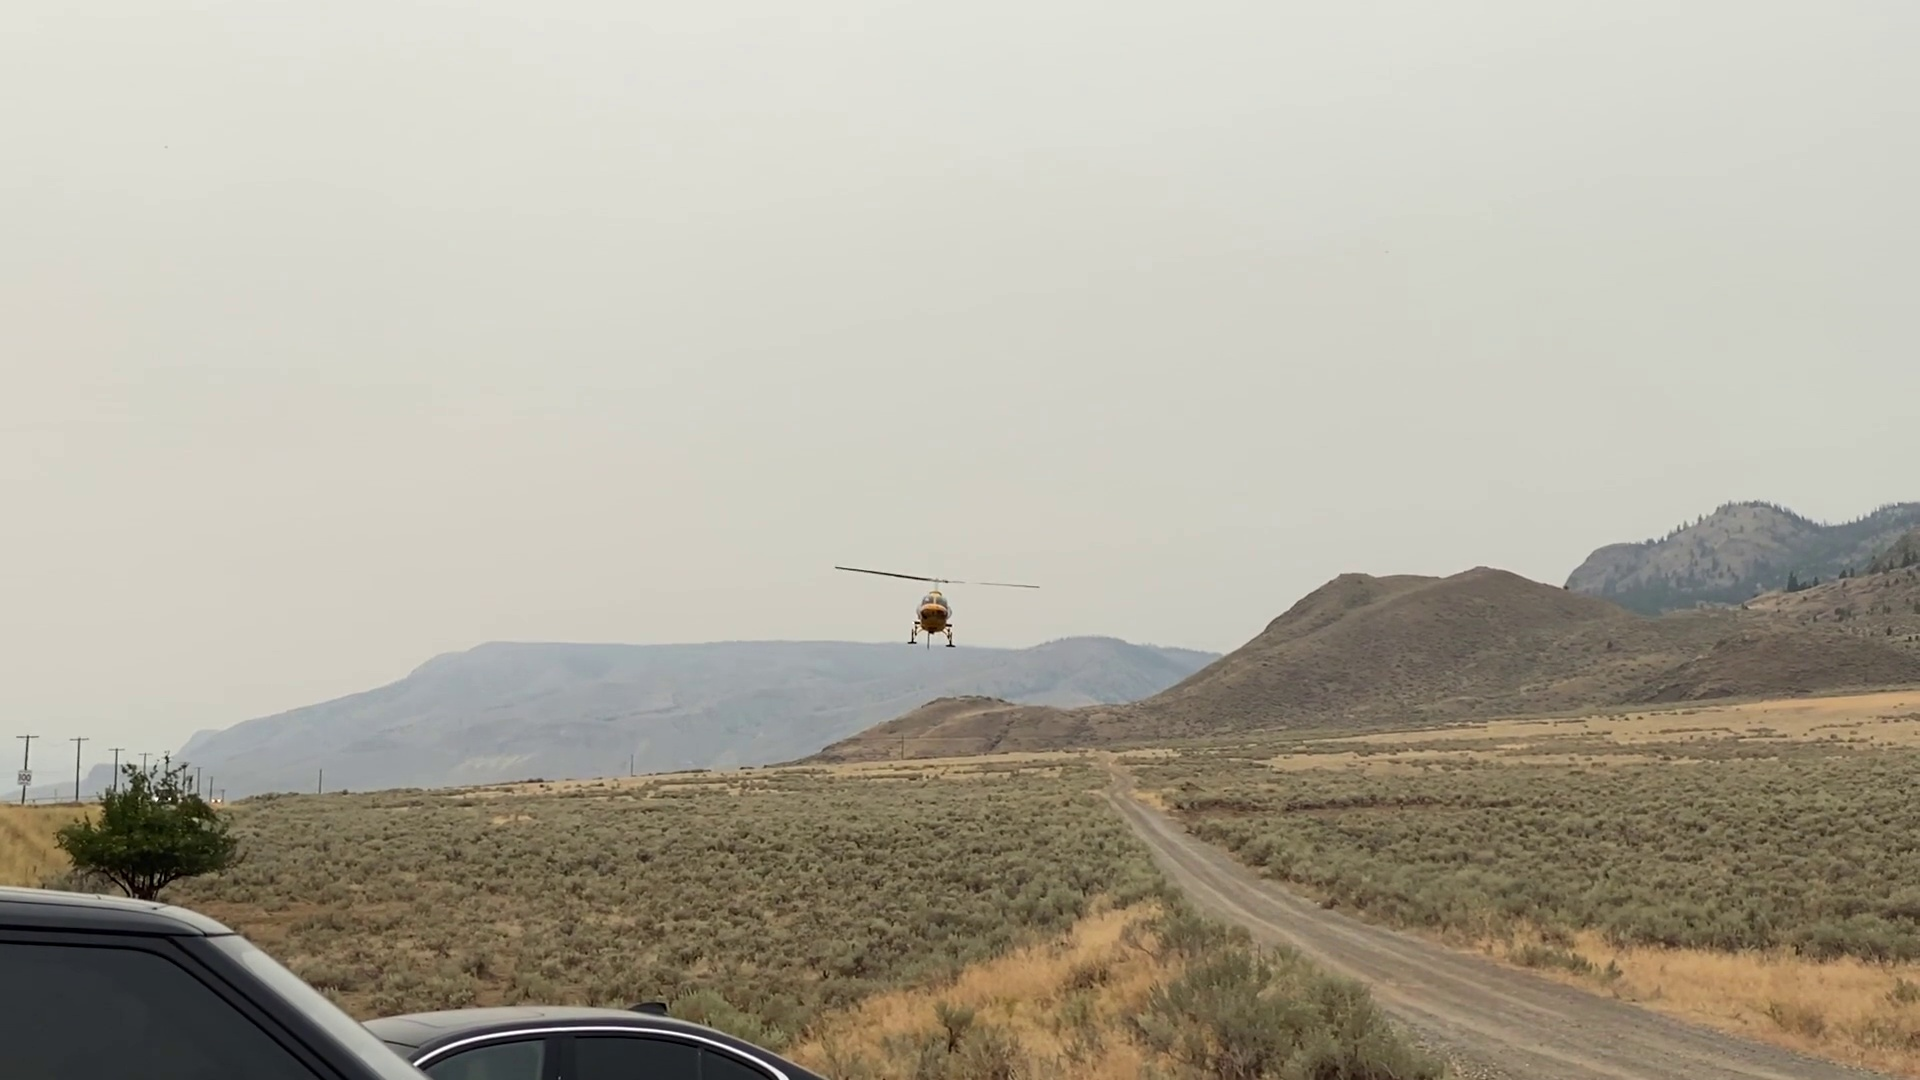heli: (833, 568, 1038, 647)
